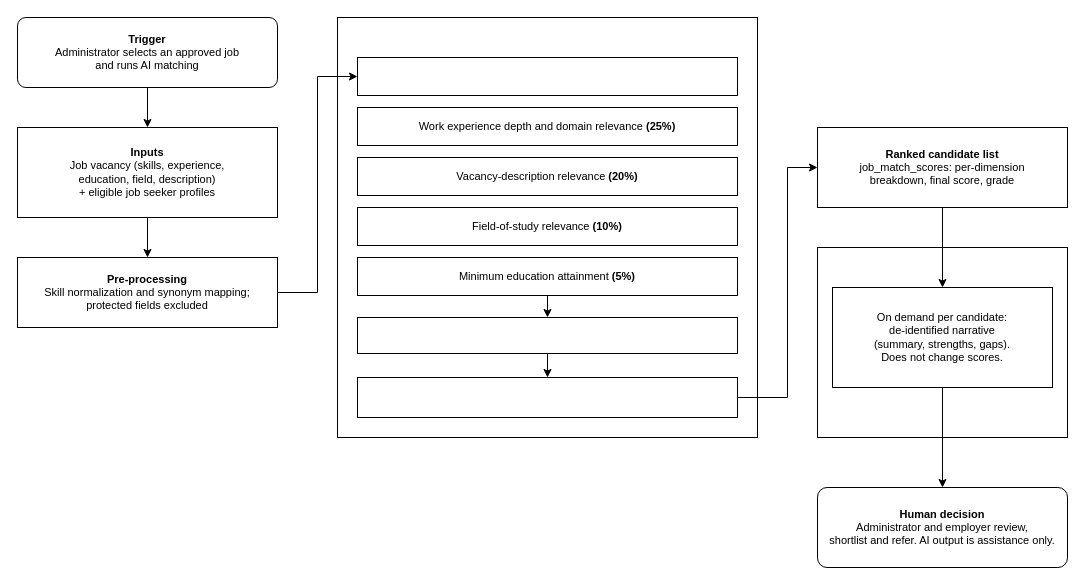
Image size: 1085x585. Some labels were removed from this diagram. Each missing label, with the box of its shape:
final score = σ(10 × (rawUtility − 0.40)) × 100: (356, 376, 738, 418)
Skill alignment (40%): (356, 56, 738, 96)
Stage 1: Deterministic Suitability Scoring (SO3a): (336, 16, 758, 438)
Stage 2: LLM-Assisted Explanation (SO3b): (816, 246, 1068, 438)
Weighted sum = rawUtility (0 to 1): (356, 316, 738, 354)
